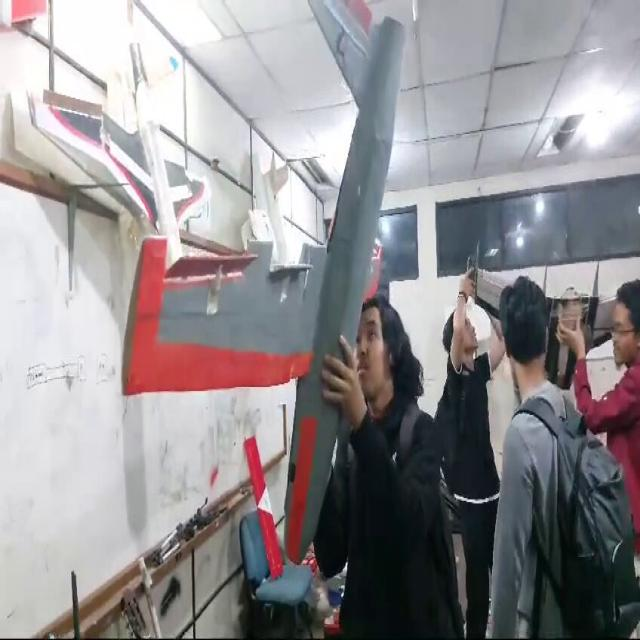plane: (112, 0, 422, 596)
